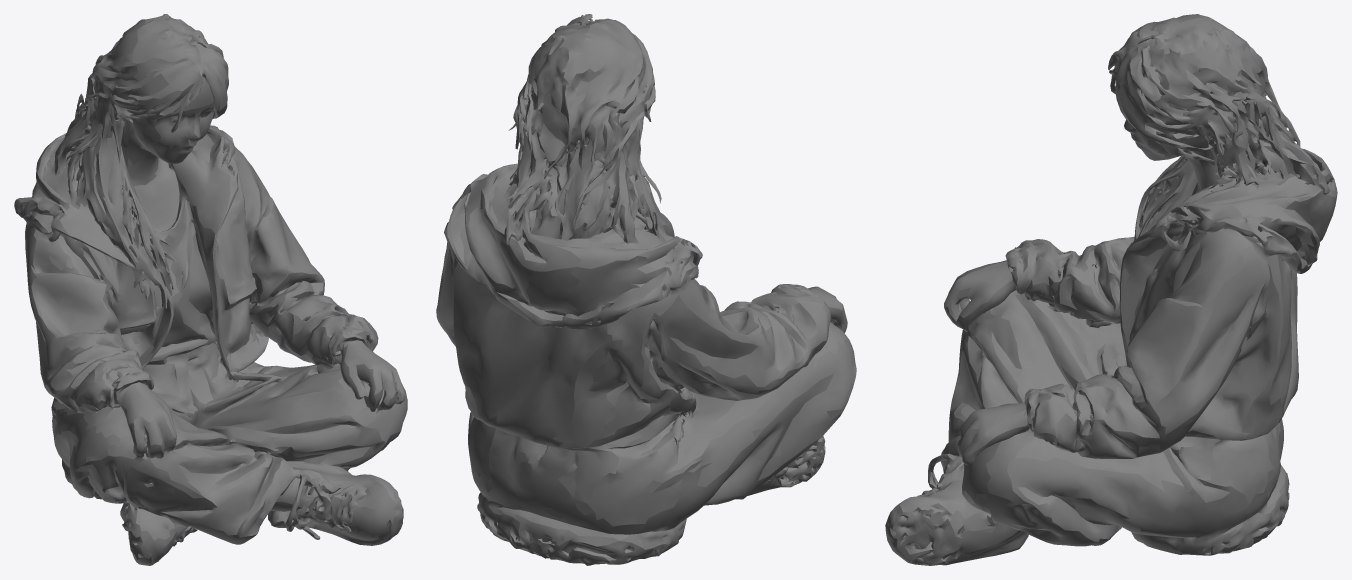
File: completion_1.glb
3 renders of one model, left to right at view 1: azimuth 30°, elevation 25°; view 2: azimuth 150°, elevation 25°; view 3: azimuth 270°, elevation 25°, orthographic. The views are drawn at different scales.
Parts seen in each view (by area): view 1: geometry_0; view 2: geometry_0; view 3: geometry_0.
Boxes of the visible parts, <box> form: geometry_0: <box>14,14,407,565</box>; geometry_0: <box>436,14,856,565</box>; geometry_0: <box>885,14,1337,565</box>.
Bounding box in the file's own units: 0.759 × 1 × 0.8312.
1 material, 1 textured.
